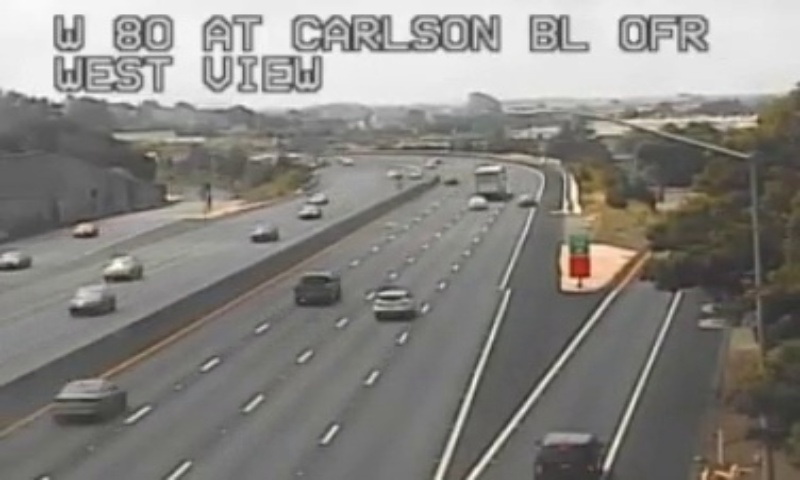car: (534, 433, 602, 480), (53, 378, 125, 418), (293, 272, 340, 303), (372, 288, 412, 312)
